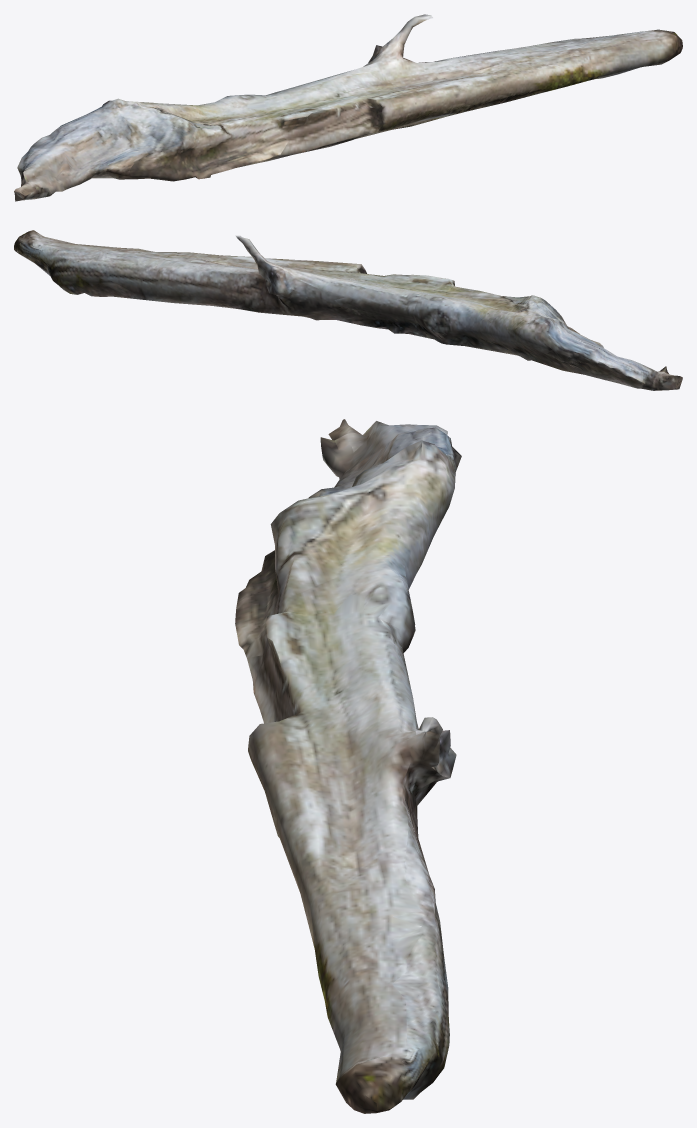
File: SM_Branch_05.fbx
3 views of the same model, one above another, from view 1: azimuth 30°, elevation 25°; view 2: azimuth 150°, elevation 25°; view 3: azimuth 270°, elevation 25° (orthographic). The views are drawn at different scales.
Parts seen in each view (by area): view 1: SM_Branch_05; view 2: SM_Branch_05; view 3: SM_Branch_05.
Part boxes in pixels (box(x1,y1,x2,y2)): SM_Branch_05: box(14, 14, 682, 201); SM_Branch_05: box(14, 230, 682, 390); SM_Branch_05: box(235, 419, 461, 1113).
Bounding box in the file's own units: 282 × 41.98 × 41.4.
1 material, 1 textured.
